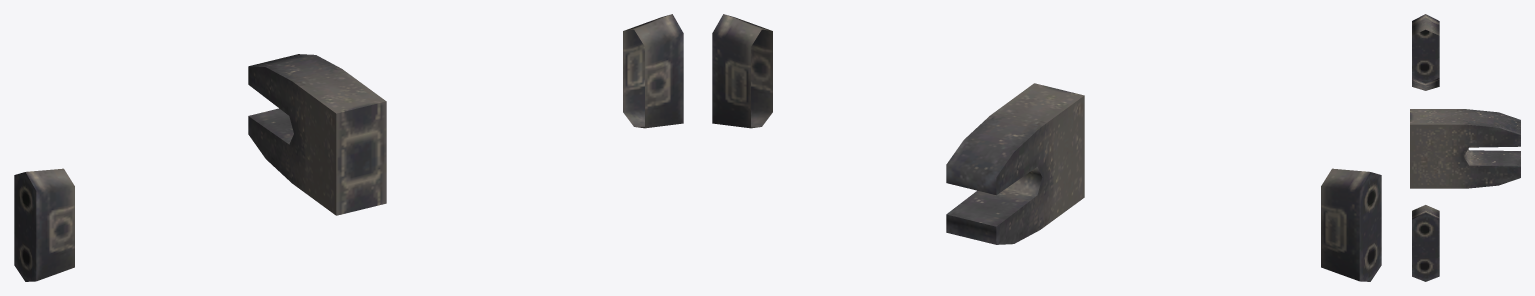
3 renders of one model, left to right at view 1: azimuth 30°, elevation 25°; view 2: azimuth 150°, elevation 25°; view 3: azimuth 270°, elevation 25°, orthographic. The views are drawn at different scales.
Parts seen in each view (by area): view 1: set_0_group_0; view 2: set_0_group_0; view 3: set_0_group_0.
Part boxes in pixels (x1,y1,x2,y2): set_0_group_0: (14, 14, 683, 281); set_0_group_0: (712, 14, 1381, 281); set_0_group_0: (1410, 14, 1520, 281).
Size of the model in its own units: 0.7605 by 0.1236 by 0.1793.
1 material, 1 textured.
